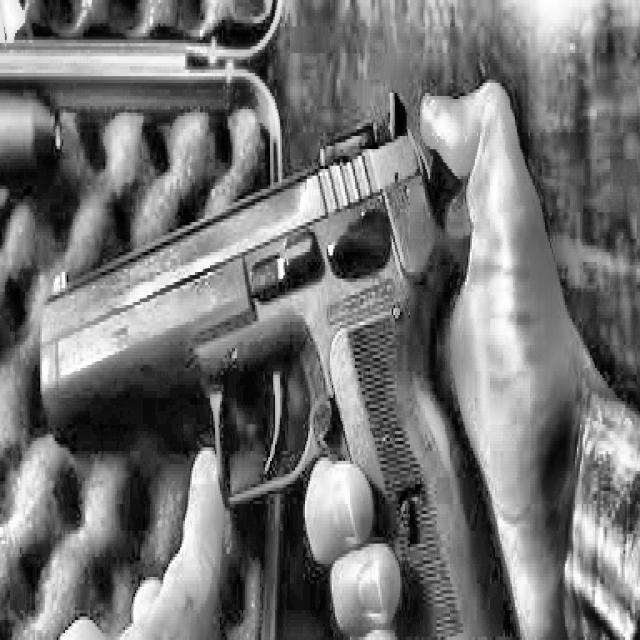Tanfoglio: (0, 0, 640, 640), (35, 86, 517, 640)
